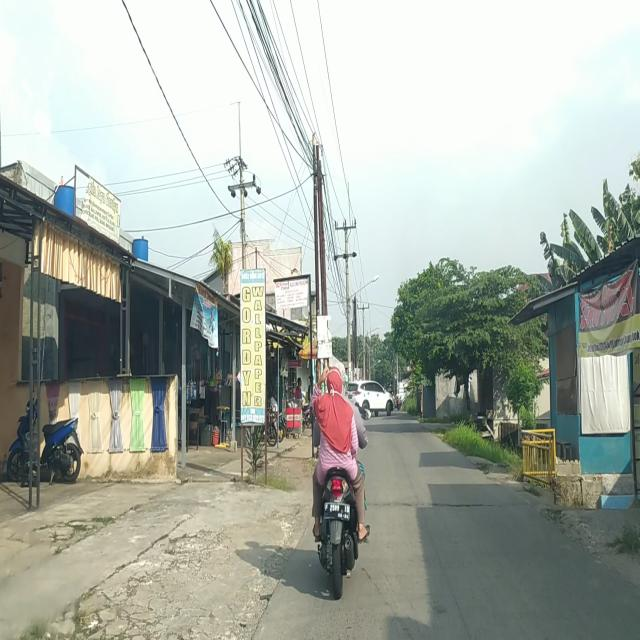Sewer Cover: (368, 499, 532, 508)
